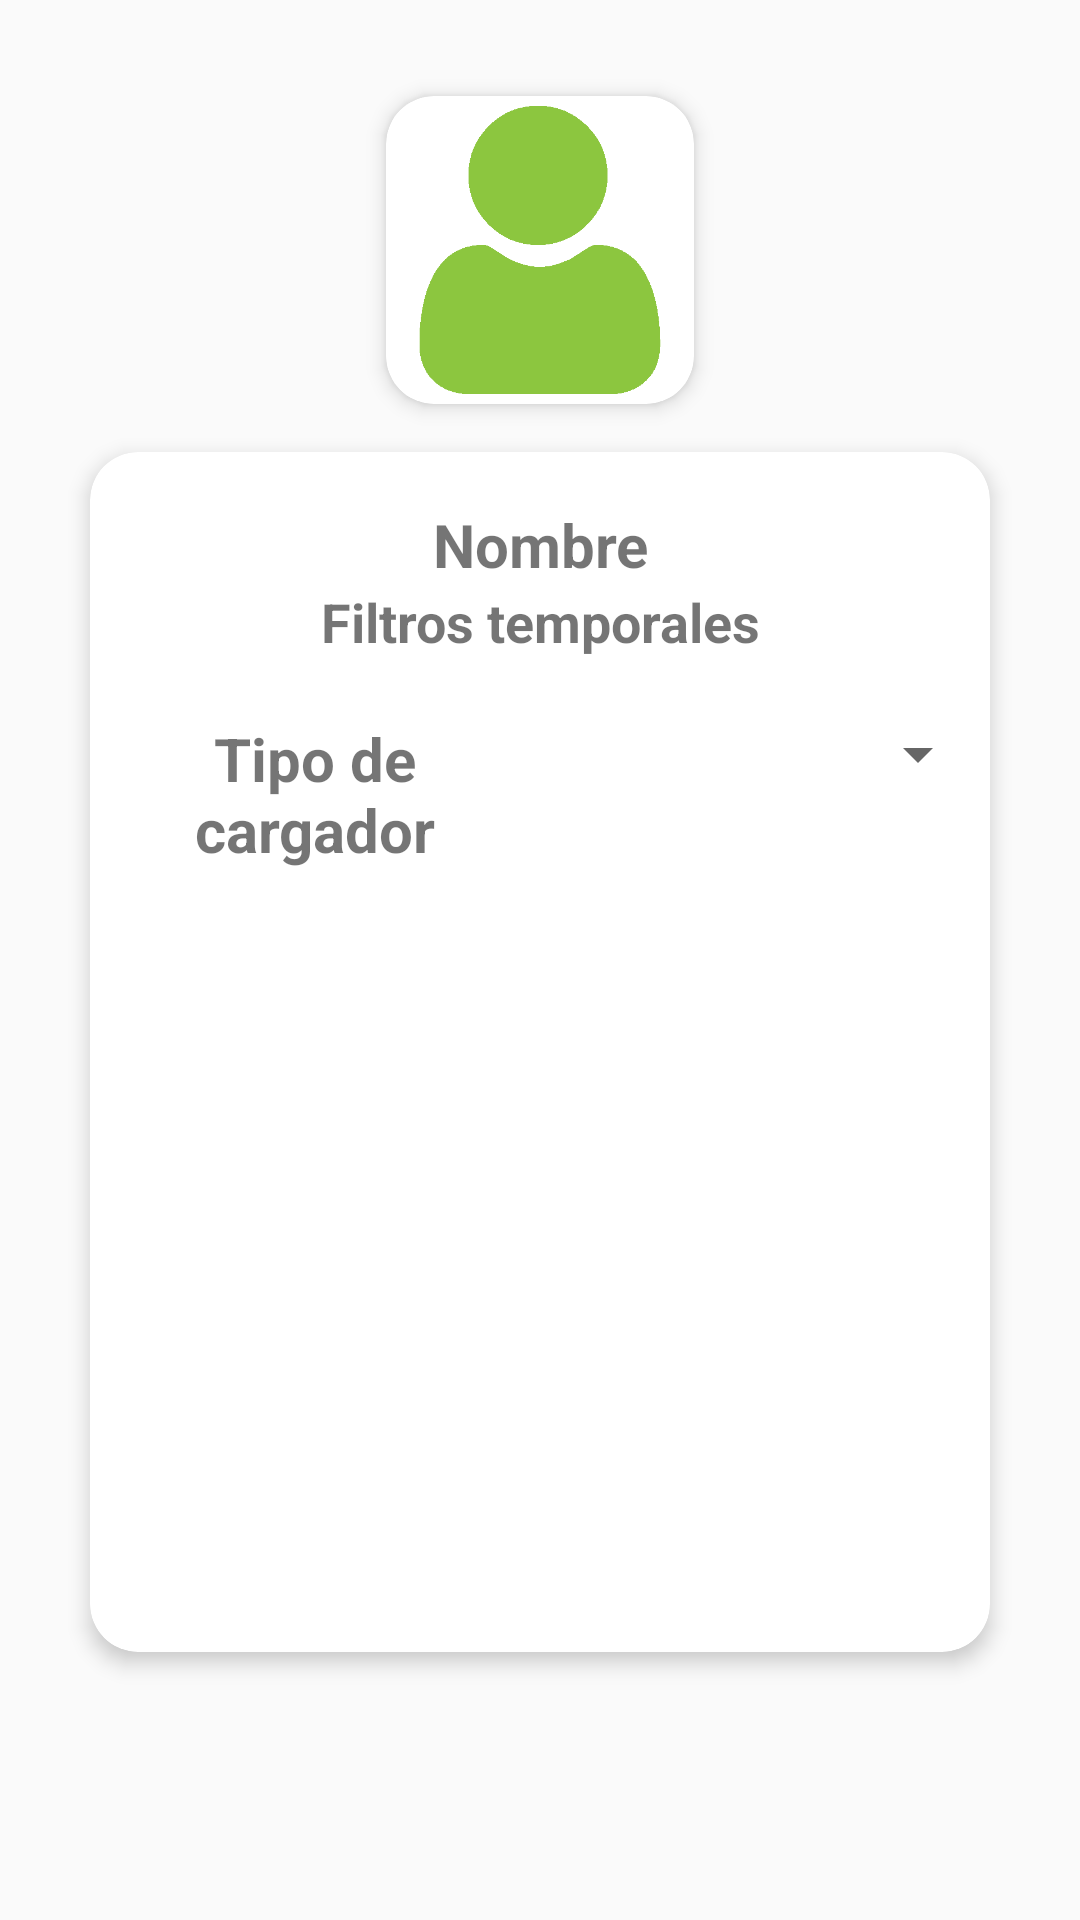

Icons on this 1080px x 1920px Android screen, each with its box as (x1, y1, x2, y2):
user: (419, 106, 661, 394)
